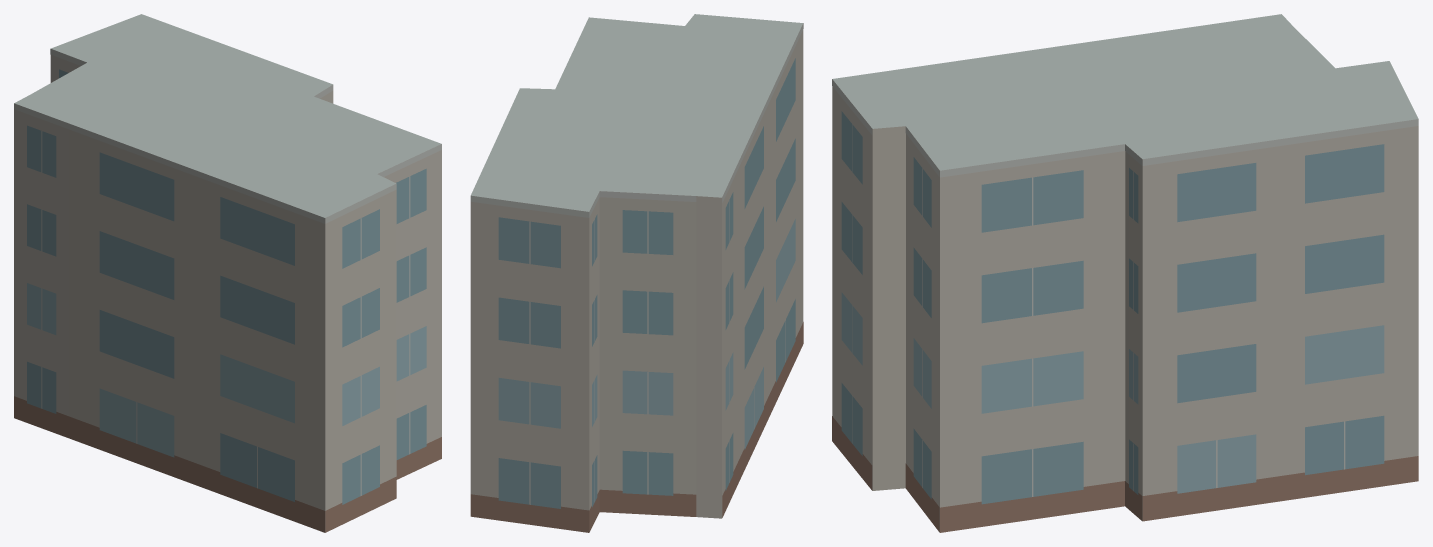
Rendered from survey-upis-32914092.glb.
3 views of the same model, side by side, from view 1: azimuth 30°, elevation 25°; view 2: azimuth 150°, elevation 25°; view 3: azimuth 270°, elevation 25° (orthographic). The views are drawn at different scales.
Parts seen in each view (by area): view 1: survey-upis-32914092.tmp; view 2: survey-upis-32914092.tmp; view 3: survey-upis-32914092.tmp.
Part boxes in pixels (box(x1,y1,x2,y2)): survey-upis-32914092.tmp: box(14, 14, 441, 532); survey-upis-32914092.tmp: box(470, 14, 803, 532); survey-upis-32914092.tmp: box(832, 14, 1418, 532).
Size of the model in its own units: 11.98 by 12.9 by 18.95.
